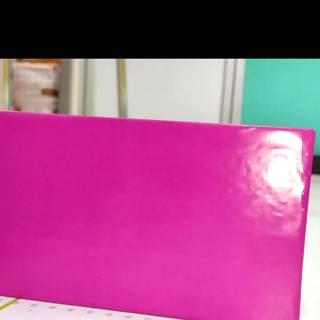xparking: (2, 111, 314, 319)
